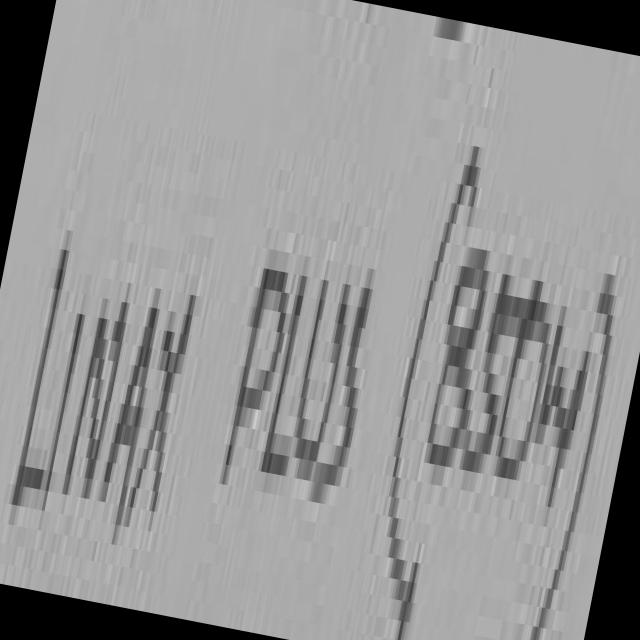0: (498, 281, 551, 477)
5: (466, 275, 527, 464)
8: (430, 248, 490, 464)
A: (102, 308, 158, 535)
I: (44, 315, 84, 501)
L: (14, 250, 68, 497), (263, 276, 305, 466)
N: (63, 302, 129, 498)
P: (224, 269, 288, 476)
S: (313, 289, 371, 502)
U: (298, 280, 349, 479)
X: (128, 295, 195, 517)
g: (544, 337, 593, 528)
m: (537, 308, 574, 447)
